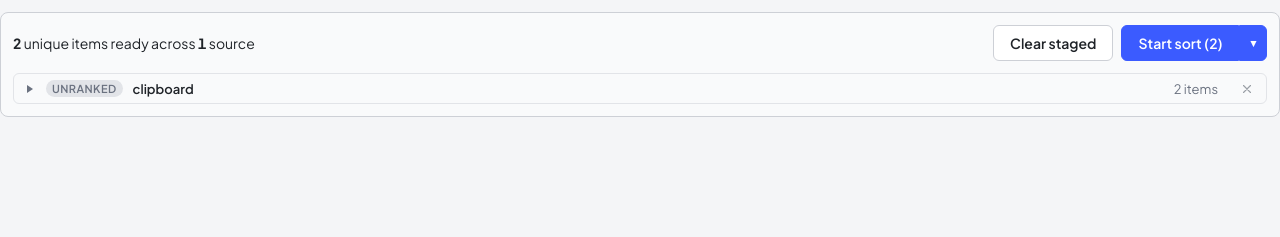
Test: StagedItemsPanel · Start Sort split-button › opens the chevron menu with merge and insertion when not a single ranked sublist
The image size is (1280, 237).
What coordinates should you click on to do the following:
click the button with class "staged-panel-start-caret"
I would click on:
 (1253, 43)
Its box is [1240, 25, 1267, 61].
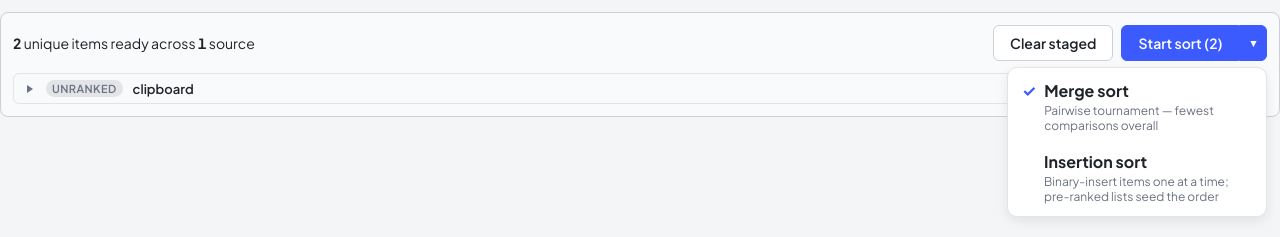
Now the menu item with class "staged-panel-start-menu-item" shows "Merge sort", box [1012, 72, 1262, 141]
Now the menu item with class "staged-panel-start-menu-item" shows "Insertion sort", box [1012, 143, 1262, 212]
Now the text with class "staged-panel-start-menu-check" reads "✓", box [1022, 80, 1036, 101]
